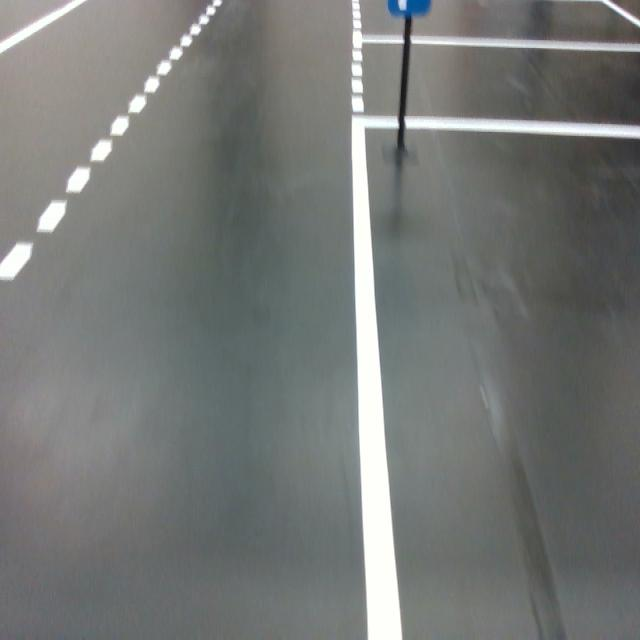parking-sign: (386, 0, 432, 18)
